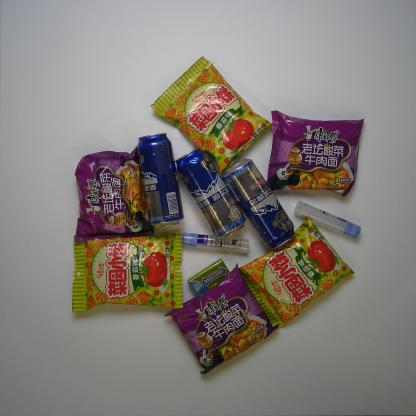Alcohol: (220, 158, 296, 251), (173, 145, 248, 238), (136, 132, 186, 230)
Gum: (186, 257, 232, 298)
Instant Noodles: (163, 262, 286, 376), (265, 109, 364, 197), (73, 145, 154, 245)
Puffed Food: (146, 53, 272, 170), (238, 214, 358, 330), (70, 230, 184, 312)
Stationery: (293, 200, 362, 240), (182, 232, 250, 254)
